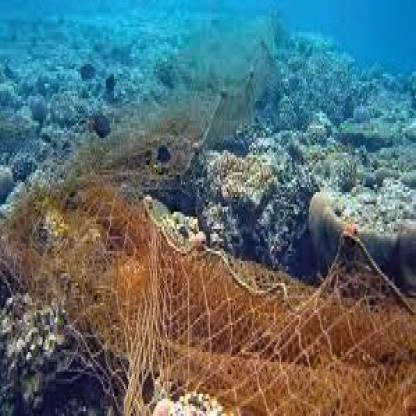net: (10, 145, 409, 416)
